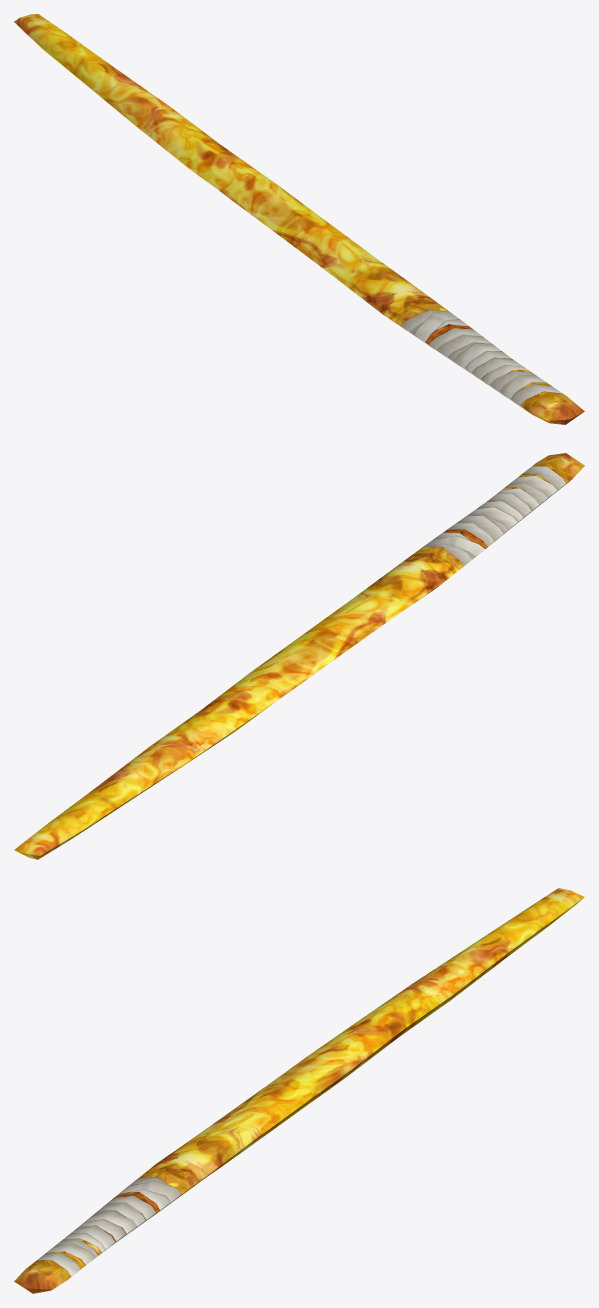
Rendered from sword_metal_stick_metal_stick_orihalcon.glb.
3 views of the same model, one above another, from view 1: azimuth 30°, elevation 25°; view 2: azimuth 150°, elevation 25°; view 3: azimuth 330°, elevation 25° (orthographic).
Size of the model in its own units: 0.0594 by 0.0258 by 1.06.
Materials: 1 (1 with a texture image).
